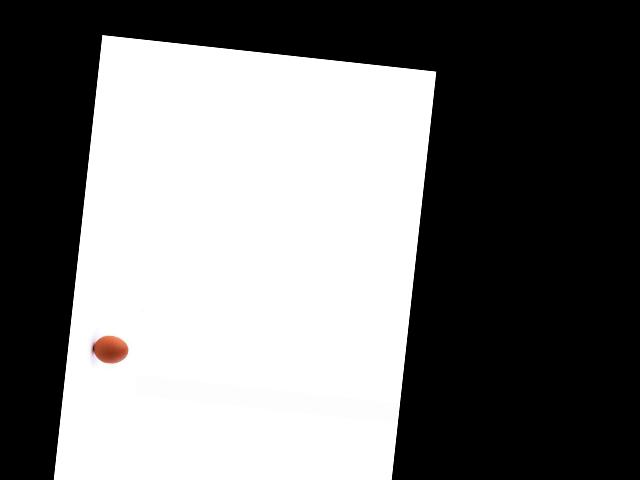egg: (92, 334, 129, 366)
